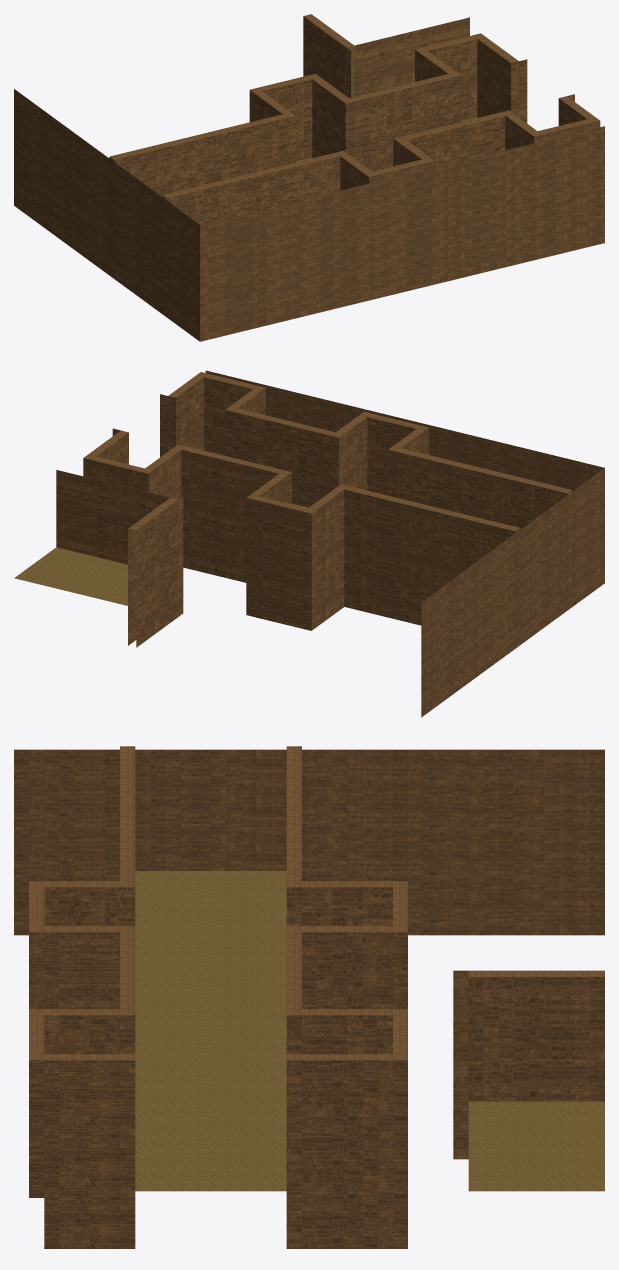
The picture shows the model from 3 angles, top to bottom: view 1: azimuth 30°, elevation 25°; view 2: azimuth 150°, elevation 25°; view 3: azimuth 270°, elevation 25°; orthographic projection. The views are drawn at different scales.
Visible parts, largest first — view 1: map; view 2: map; view 3: map.
Part boxes in pixels (x1,y1,x2,y2): map: (14, 14, 604, 341); map: (14, 370, 604, 717); map: (14, 746, 604, 1248).
Bounding box in the file's own units: 50.38 × 13.86 × 39.29.
Materials: 2 (2 with a texture image).
